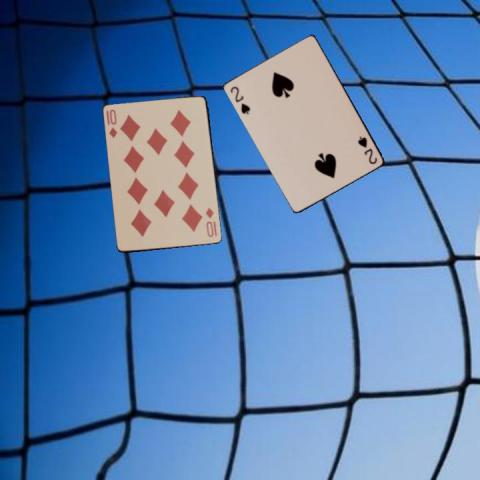10d: (103, 107, 119, 139), (203, 205, 215, 238)
2s: (227, 84, 252, 116), (355, 133, 379, 166)
